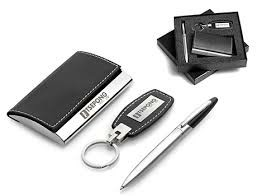pen: (119, 97, 216, 191)
